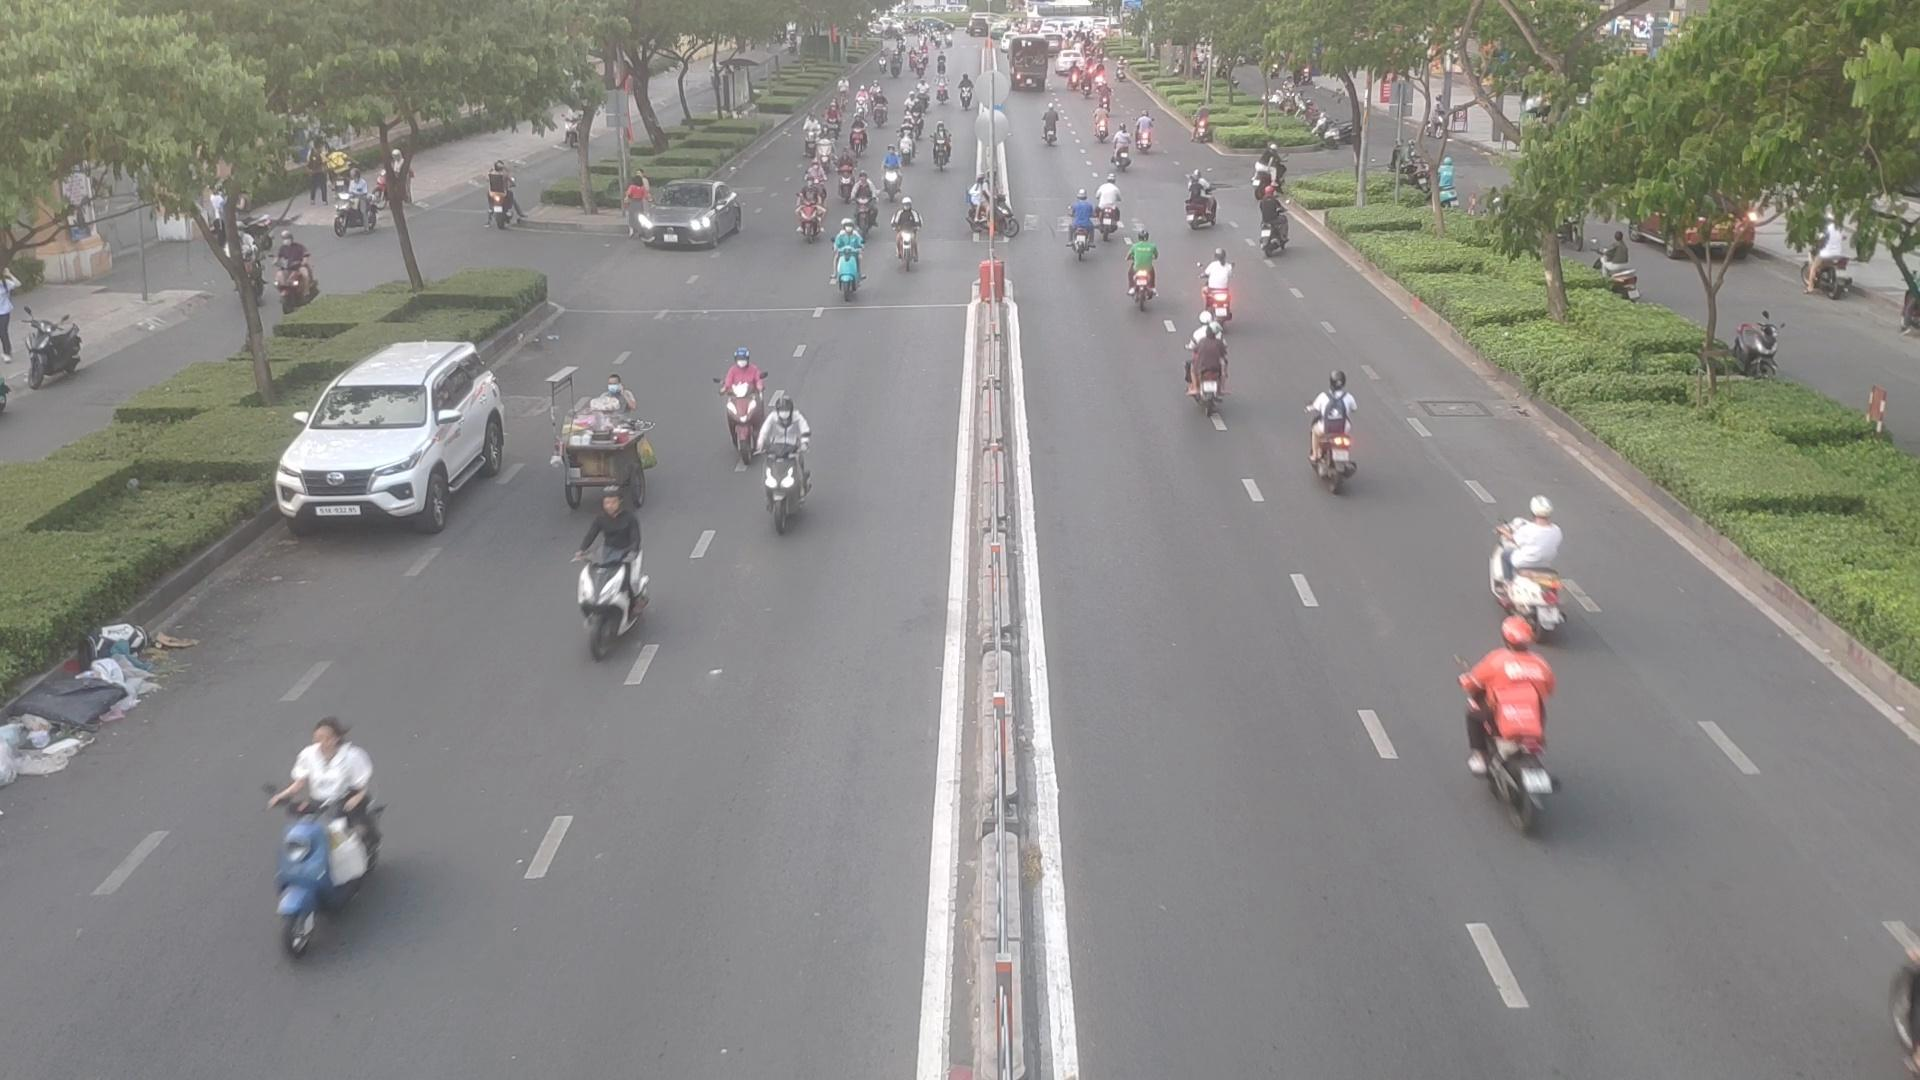car: (281, 338, 522, 527), (622, 186, 750, 255)
motorbike: (269, 713, 400, 916), (1452, 633, 1575, 825), (572, 502, 665, 645), (741, 392, 822, 533), (1490, 497, 1576, 585), (1305, 377, 1371, 488), (1184, 319, 1244, 415), (828, 220, 874, 298), (1197, 247, 1242, 324), (1124, 233, 1164, 310), (1062, 195, 1106, 262), (1258, 199, 1302, 260), (1080, 189, 1120, 244), (1180, 175, 1218, 228), (795, 191, 829, 244), (1106, 131, 1131, 169)
